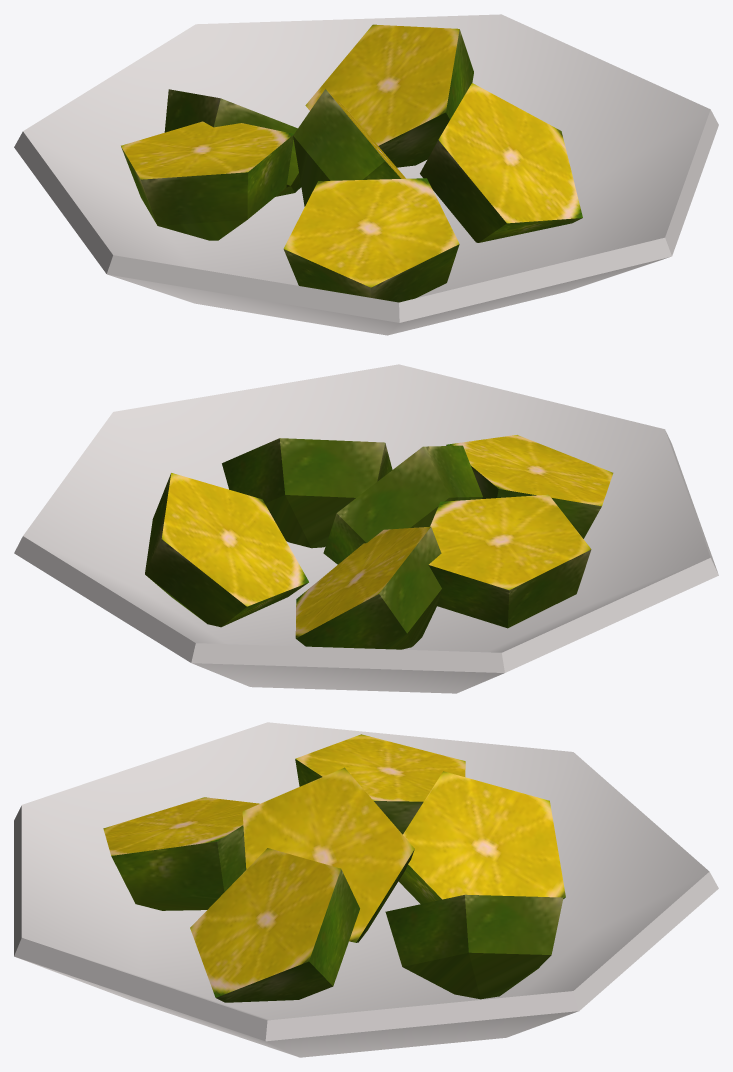
Rendered from Lemons.glb.
The picture shows the model from 3 angles, top to bottom: view 1: azimuth 30°, elevation 25°; view 2: azimuth 150°, elevation 25°; view 3: azimuth 270°, elevation 25°; orthographic projection. The views are drawn at different scales.
Parts seen in each view (by area): view 1: lemon; view 2: lemon; view 3: lemon.
Boxes of the visible parts, bbox=[...] form: lemon: bbox=[14, 14, 718, 335]; lemon: bbox=[14, 364, 718, 693]; lemon: bbox=[14, 722, 718, 1057].
Size of the model in its own units: 0.2374 by 0.0599 by 0.2314.
Materials: 1 (1 with a texture image).
